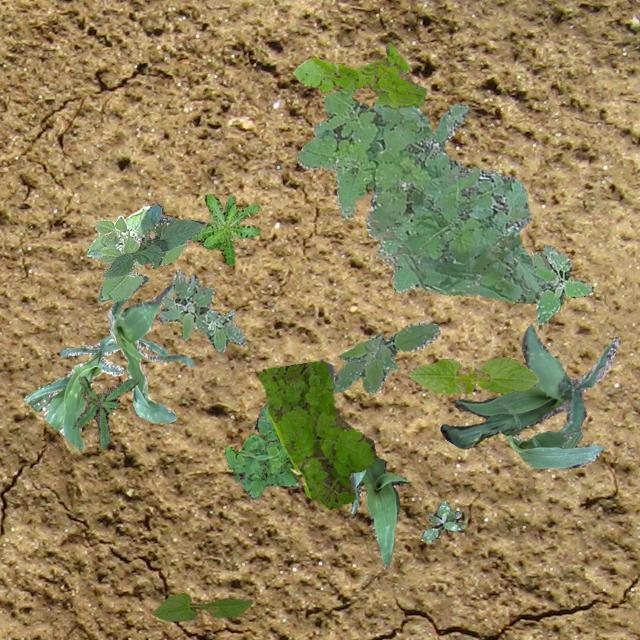crop: (440, 322, 620, 448), (22, 334, 168, 449), (106, 274, 192, 422), (86, 205, 186, 302), (102, 204, 205, 278), (348, 454, 409, 566), (408, 357, 538, 392), (501, 427, 606, 468), (152, 592, 252, 620)
weed: (296, 89, 562, 304), (256, 359, 374, 508), (292, 42, 426, 108), (331, 321, 438, 394), (158, 270, 244, 352), (224, 402, 296, 498), (530, 244, 594, 324), (190, 192, 260, 264), (72, 376, 138, 448), (420, 500, 464, 542)
